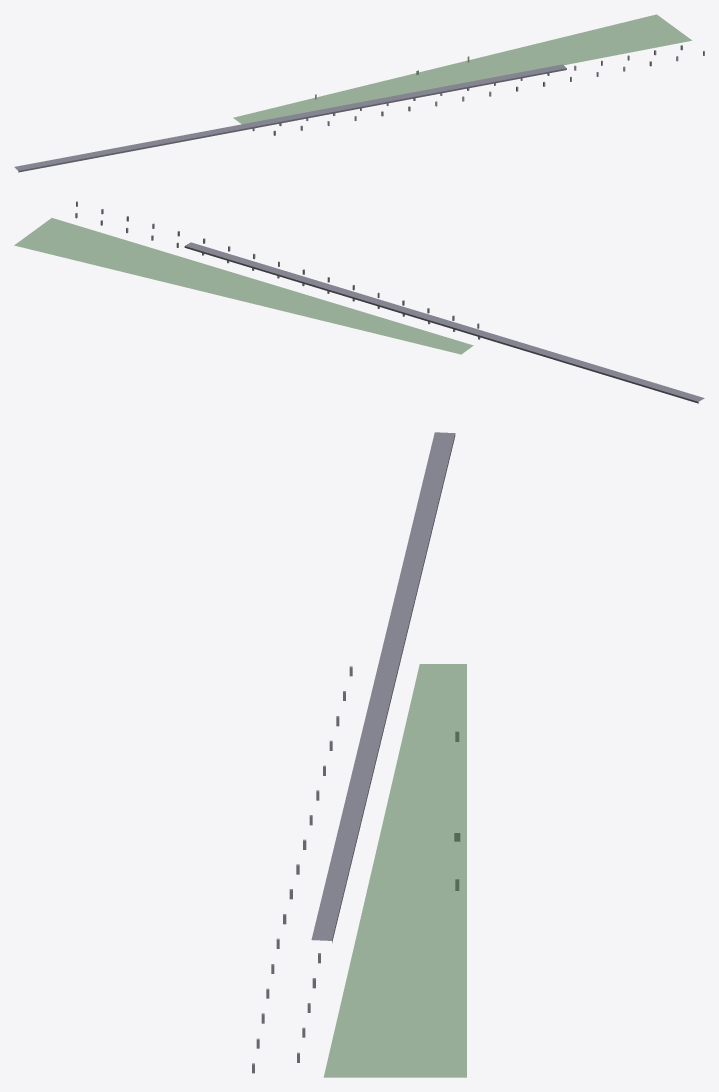
3 views of the same model, one above another, from view 1: azimuth 30°, elevation 25°; view 2: azimuth 150°, elevation 25°; view 3: azimuth 270°, elevation 25° (orthographic). The views are drawn at different scales.
Bounding box in the file's own units: 763 × 8.75 × 110.
